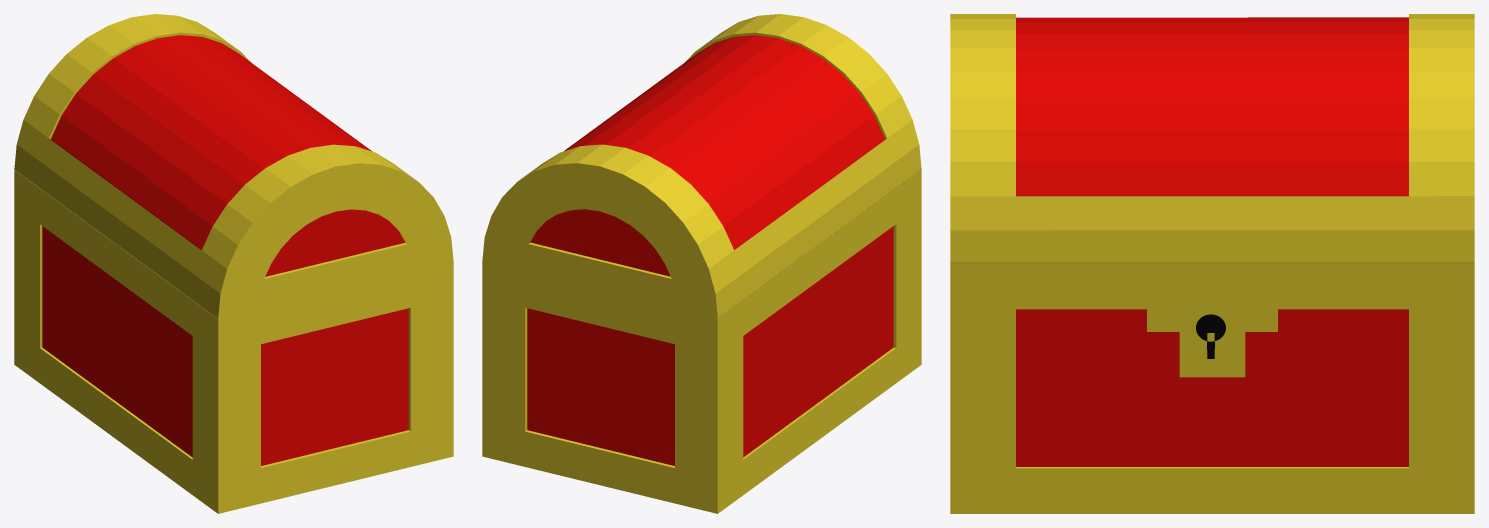
Rendered from Takarabako2.fbx.
3 views of the same model, side by side, from view 1: azimuth 30°, elevation 25°; view 2: azimuth 150°, elevation 25°; view 3: azimuth 270°, elevation 25° (orthographic). The views are drawn at different scales.
Visible parts, largest first — view 1: Cube.001, Cylinder.001, Cylinder, Cube; view 2: Cube.001, Cylinder.001, Cylinder, Cube; view 3: Cube.001, Cylinder, Cylinder.001, Cube, Background.
Part boxes in pixels (x1,y1,x2,y2): Cube.001: (14,170,453,513); Cylinder.001: (14,14,453,319); Cylinder: (50,35,405,276); Cube: (42,226,408,465); Cube.001: (482,170,921,513); Cylinder.001: (482,14,921,318); Cylinder: (530,35,885,276); Cube: (527,226,893,465); Cube.001: (950,263,1474,513); Cylinder: (1016,17,1408,196); Cylinder.001: (950,14,1474,263); Cube: (1016,309,1408,466); Background: (1196,314,1225,358).
Bounding box in the file's own units: 204 × 264 × 306.
